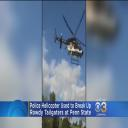helicopter: (54, 12, 87, 67)
